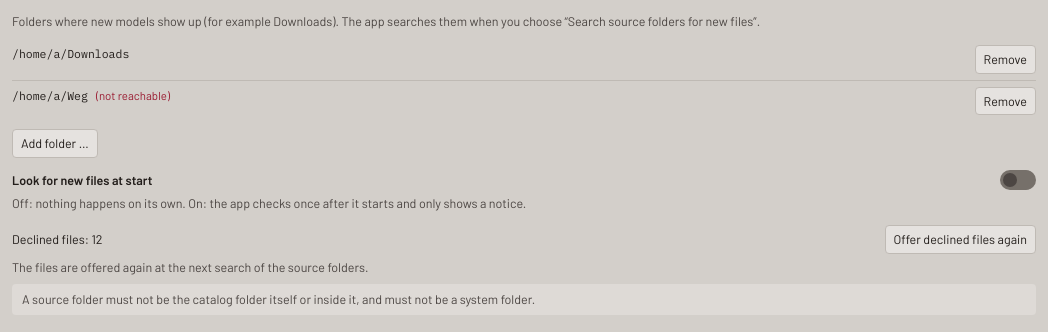
Test: keeps the full declined-file action operable in en
The width and height of the screenshot is (1048, 332).
Click the button "Offer declined files again": (960, 239) left=884, top=225, right=1036, bottom=254
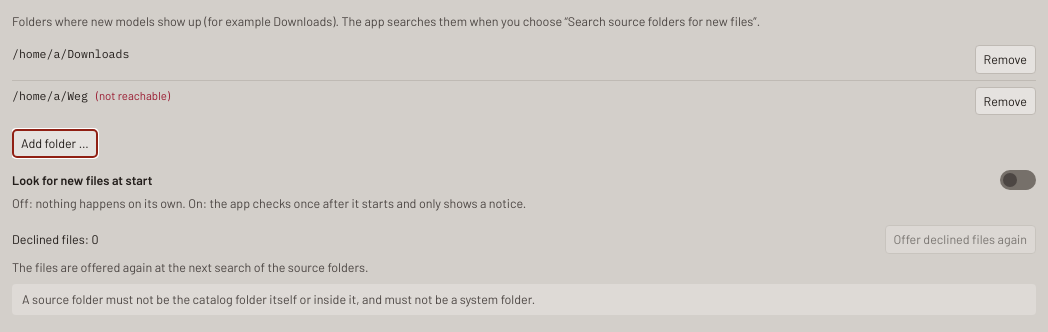
Check: the button "Offer declined files again" is disabled, box left=884, top=225, right=1036, bottom=254
